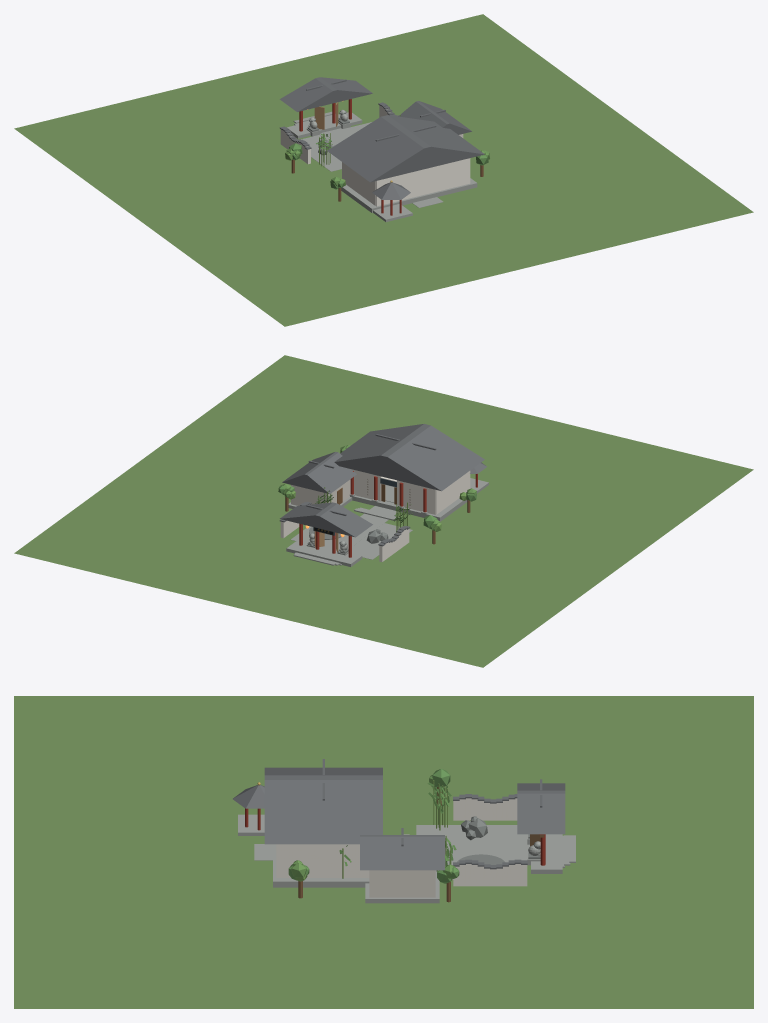
File: aotai_academy.glb
3 renders of one model, top to bottom at view 1: azimuth 30°, elevation 25°; view 2: azimuth 150°, elevation 25°; view 3: azimuth 270°, elevation 25°, orthographic. The views are drawn at different scales.
Visible parts, largest first — view 1: AotaiAcademy; view 2: AotaiAcademy; view 3: AotaiAcademy.
Boxes of the visible parts, x1,y1,x2,y2 form: AotaiAcademy: (14,14,753,326); AotaiAcademy: (14,355,753,667); AotaiAcademy: (14,696,753,1008).
Bounding box in the file's own units: 80 × 9.22 × 80.
Materials: 22 (4 with a texture image).
